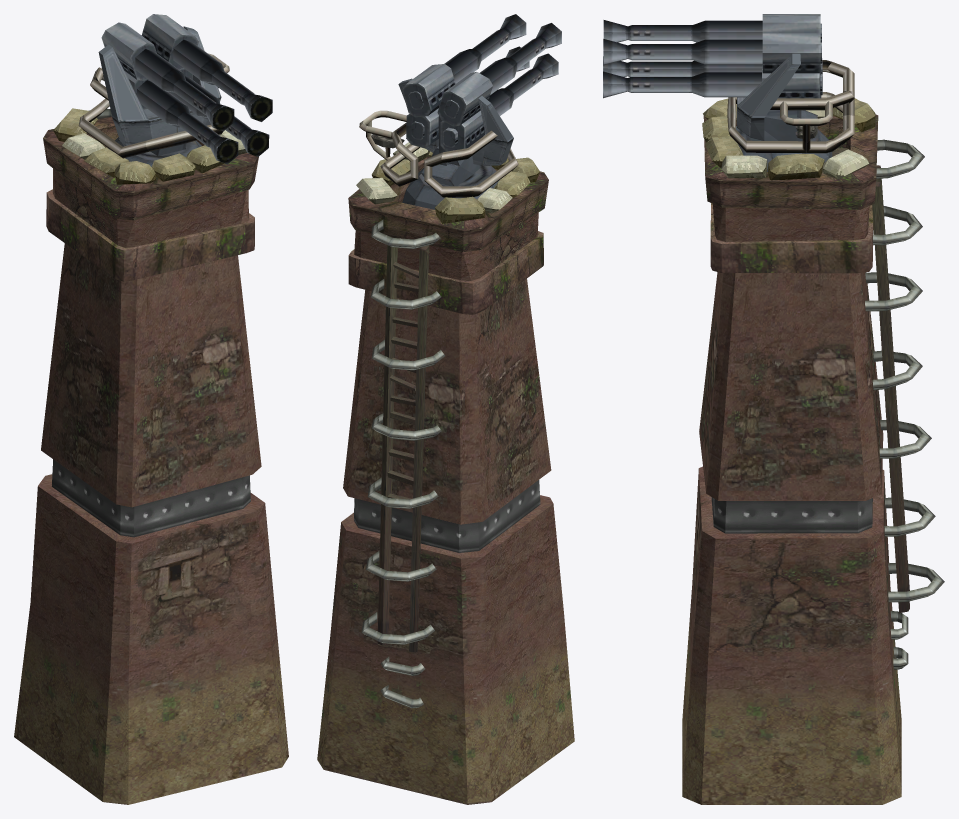
The model's file is C1SMAATOWER01.bgf.obj.
3 views of the same model, side by side, from view 1: azimuth 30°, elevation 25°; view 2: azimuth 150°, elevation 25°; view 3: azimuth 270°, elevation 25° (orthographic). The views are drawn at different scales.
Parts seen in each view (by area): view 1: C1SMAATOWER01, FRAG_PLATE09, FRAG_PLATE11, FRAG_PLATE08, TURRET, BARREL, GUN08, GUN05, GUN06, FRAG_PLATE02, FRAG_PLATE01, FRAG_PLATE00 (+1 smaller); view 2: C1SMAATOWER01, FRAG_PLATE08, FRAG_PLATE10, TURRET, FRAG_PLATE11, BARREL, FRAG_PLATE04, FRAG_PLATE05, FRAG_PLATE01, GUN06, GUN05, GUN08 (+6 smaller); view 3: C1SMAATOWER01, FRAG_PLATE07, FRAG_PLATE10, TURRET, BARREL, FRAG_PLATE00, GUN06, FRAG_PLATE03, FRAG_PLATE05, GUN07, GUN05, FRAG_PLATE11 (+8 smaller).
Boxes of the visible parts, <box> form: C1SMAATOWER01: <box>14,352,288,804</box>; FRAG_PLATE09: <box>116,256,252,507</box>; FRAG_PLATE11: <box>43,130,258,281</box>; FRAG_PLATE08: <box>41,243,121,503</box>; TURRET: <box>78,26,229,166</box>; BARREL: <box>101,14,198,109</box>; GUN08: <box>137,80,238,164</box>; GUN05: <box>135,49,234,131</box>; GUN06: <box>173,39,272,121</box>; FRAG_PLATE02: <box>115,145,223,184</box>; FRAG_PLATE01: <box>53,108,129,177</box>; FRAG_PLATE00: <box>89,109,261,473</box>; C1SMAATOWER01: <box>317,442,574,804</box>; FRAG_PLATE08: <box>348,279,551,524</box>; FRAG_PLATE10: <box>348,159,463,313</box>; TURRET: <box>359,78,518,209</box>; FRAG_PLATE11: <box>425,156,548,314</box>; BARREL: <box>402,64,492,151</box>; FRAG_PLATE04: <box>367,245,438,551</box>; FRAG_PLATE05: <box>371,245,444,444</box>; FRAG_PLATE01: <box>435,171,530,223</box>; GUN06: <box>444,14,526,83</box>; GUN05: <box>479,23,561,94</box>; GUN08: <box>488,53,558,115</box>; C1SMAATOWER01: <box>682,395,944,804</box>; FRAG_PLATE07: <box>718,273,881,500</box>; FRAG_PLATE10: <box>719,115,878,273</box>; TURRET: <box>727,53,854,171</box>; BARREL: <box>762,14,822,98</box>; FRAG_PLATE00: <box>706,139,924,500</box>; GUN06: <box>603,39,762,65</box>; FRAG_PLATE03: <box>721,149,869,180</box>; FRAG_PLATE05: <box>865,181,922,402</box>; GUN07: <box>603,71,761,98</box>; GUN05: <box>603,20,762,42</box>; FRAG_PLATE11: <box>703,114,877,272</box>.
Bounding box in the file's own units: 4.13 × 15.25 × 6.45.
